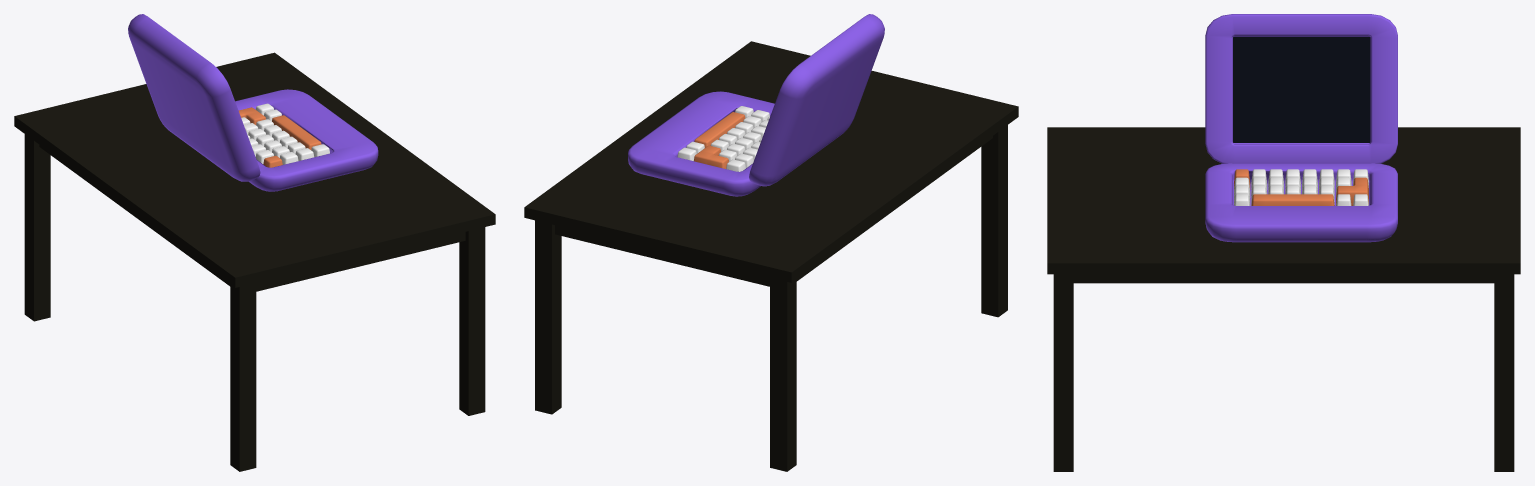
File: bureau_v1.glb
3 renders of one model, left to right at view 1: azimuth 30°, elevation 25°; view 2: azimuth 150°, elevation 25°; view 3: azimuth 270°, elevation 25°, orthographic. The views are drawn at different scales.
Visible parts, largest first — view 1: Cube.001, Plane.001, Plane, Plane.002; view 2: Cube.001, Plane.001, Plane, Plane.002; view 3: Cube.001, Plane.003, Plane.001, Plane, Plane.002.
Boxes of the visible parts, bbox=[...] form: Cube.001: bbox=[14, 52, 495, 471]; Plane.001: bbox=[128, 14, 260, 181]; Plane: bbox=[235, 89, 378, 191]; Plane.002: bbox=[238, 103, 329, 167]; Cube.001: bbox=[524, 41, 1018, 471]; Plane.001: bbox=[749, 14, 884, 186]; Plane: bbox=[628, 91, 774, 196]; Plane.002: bbox=[677, 106, 769, 171]; Cube.001: bbox=[1047, 127, 1520, 471]; Plane.003: bbox=[1233, 37, 1370, 142]; Plane.001: bbox=[1205, 14, 1397, 163]; Plane: bbox=[1205, 163, 1397, 242]; Plane.002: bbox=[1234, 169, 1368, 205].
Size of the model in its own units: 2 by 2.45 by 2.94.
